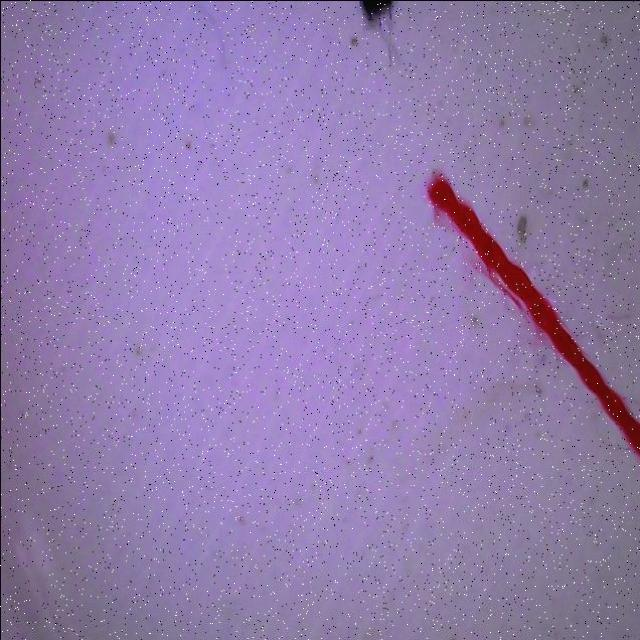Fibre: (418, 166, 640, 464)
